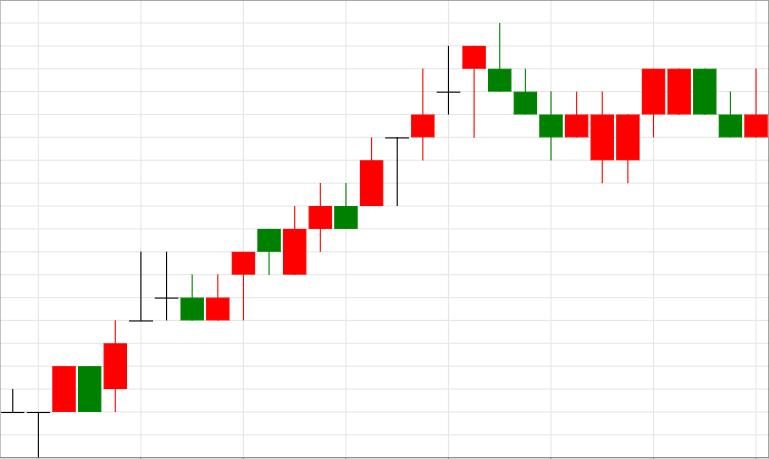hanging_man_fall: (283, 46, 486, 274)
